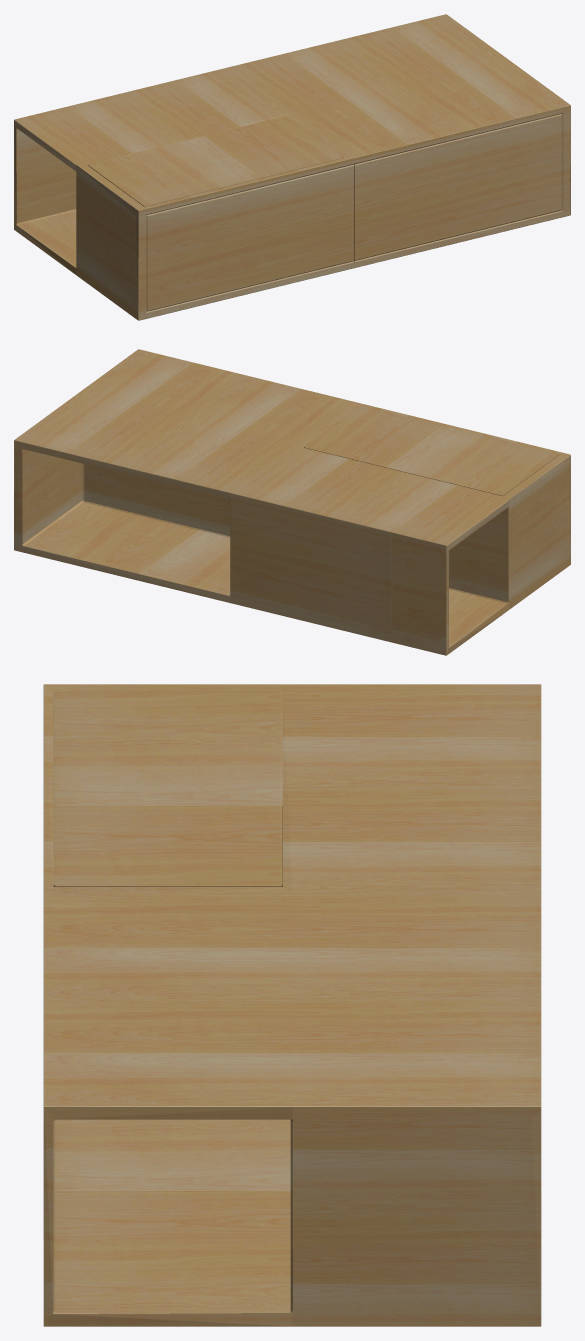
Rendered from furniture_test_navy_wood_c0.dae.
The picture shows the model from 3 angles, top to bottom: view 1: azimuth 30°, elevation 25°; view 2: azimuth 150°, elevation 25°; view 3: azimuth 270°, elevation 25°; orthographic projection. The views are drawn at different scales.
Parts seen in each view (by area): view 1: aws_CoffeeTable_01_visual; view 2: aws_CoffeeTable_01_visual; view 3: aws_CoffeeTable_01_visual.
Boxes of the visible parts, x1,y1,x2,y2 form: aws_CoffeeTable_01_visual: [14, 14, 570, 320]; aws_CoffeeTable_01_visual: [14, 349, 570, 655]; aws_CoffeeTable_01_visual: [43, 684, 541, 1326].
Size of the model in its own units: 131 by 65.48 by 32.17.
1 material, 1 textured.
